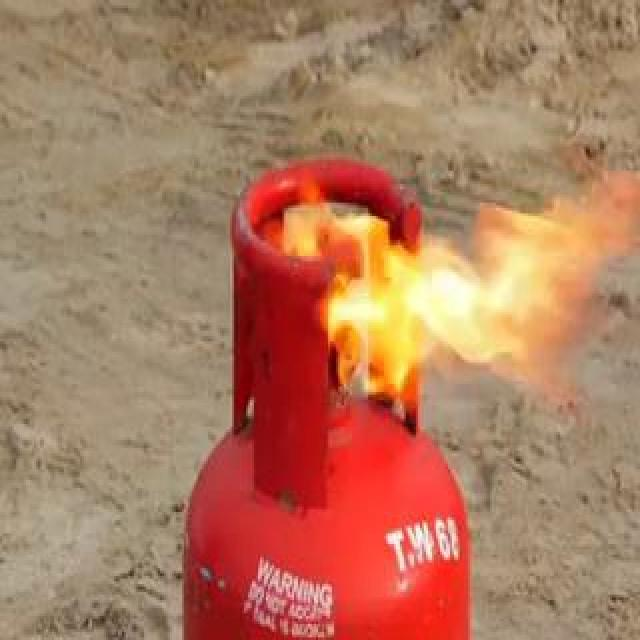Fire: (242, 152, 628, 493)
